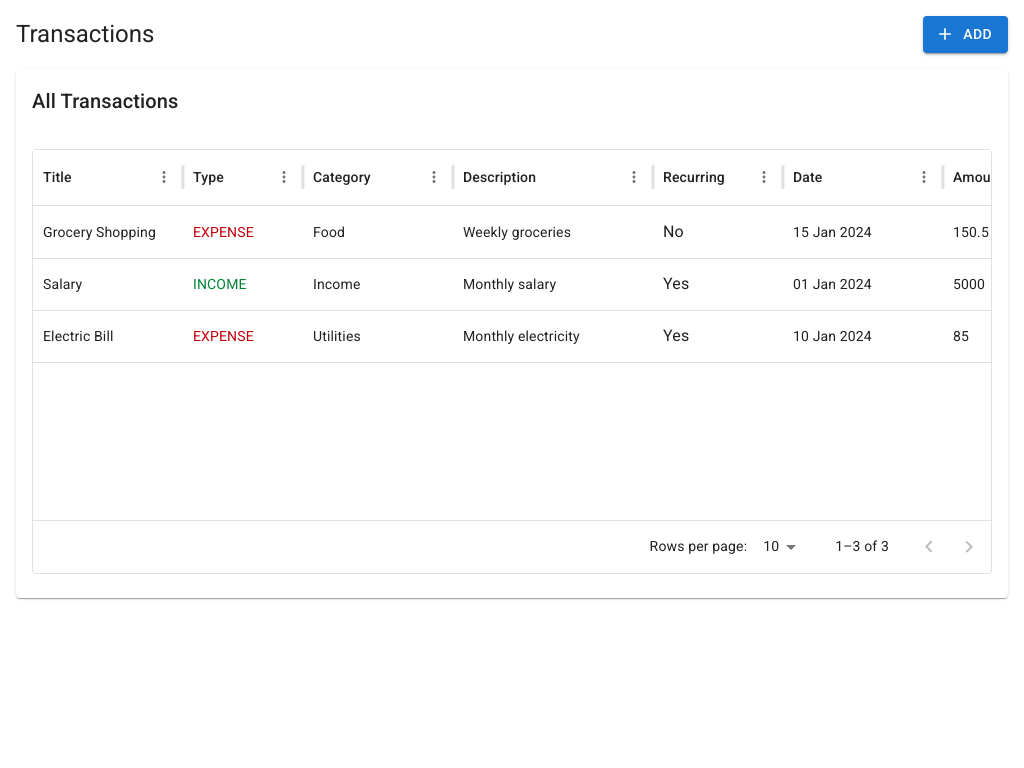
Test: Transactions Page › should open add transaction form when add button clicked
Click the button with test id "add-transaction-button": click(966, 34) [923,16,1008,52]
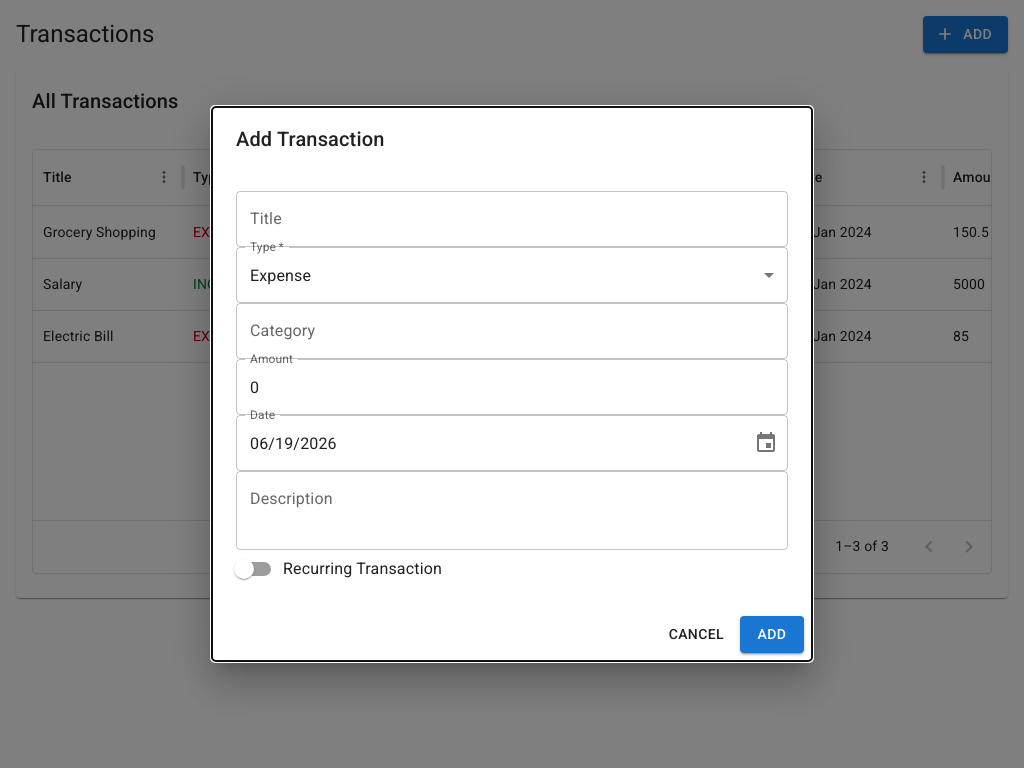
Expected: the dialog "Add Transaction" is shown, [212,107,812,661]
